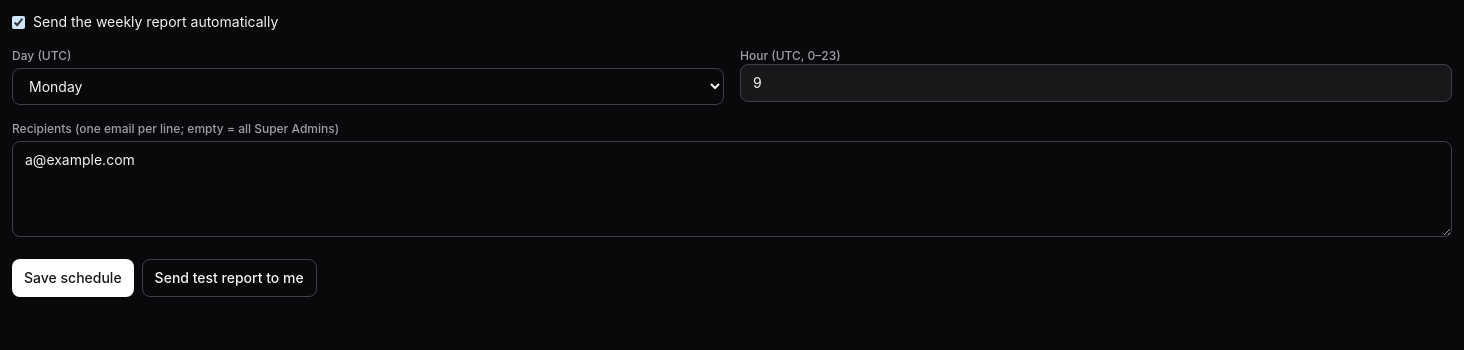
Test case: ReportScheduleForm › notes when mail is not configured for the test report
Click the button "Send test report to me".
click(229, 278)  # box [142,259,317,297]
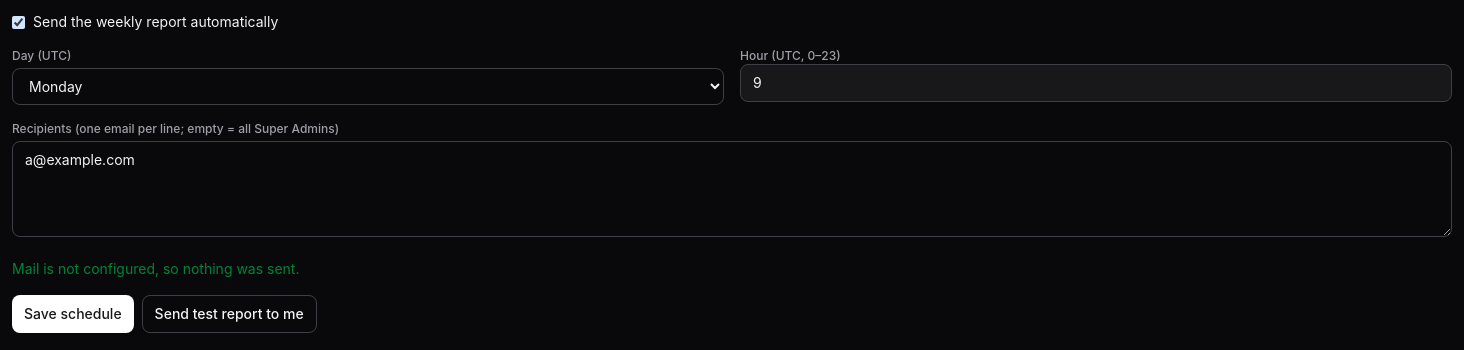
Now the text "Mail is not configured, so nothing was sent." is shown, box [12,260,300,277]
